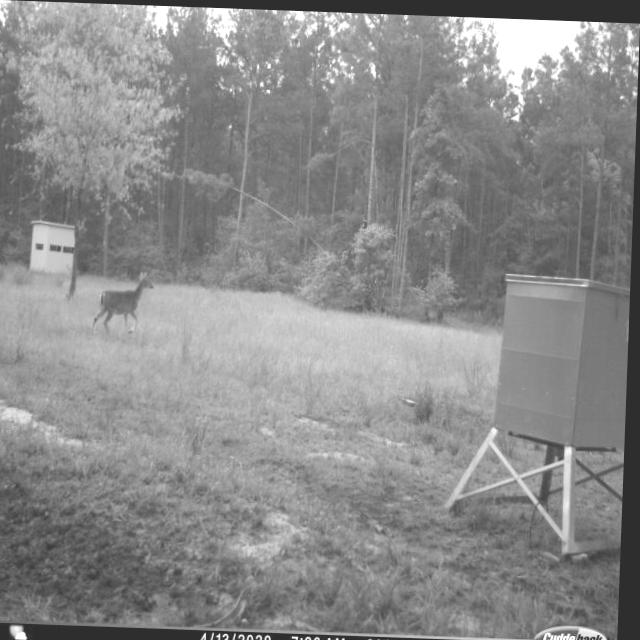Deer: (91, 266, 159, 340)
